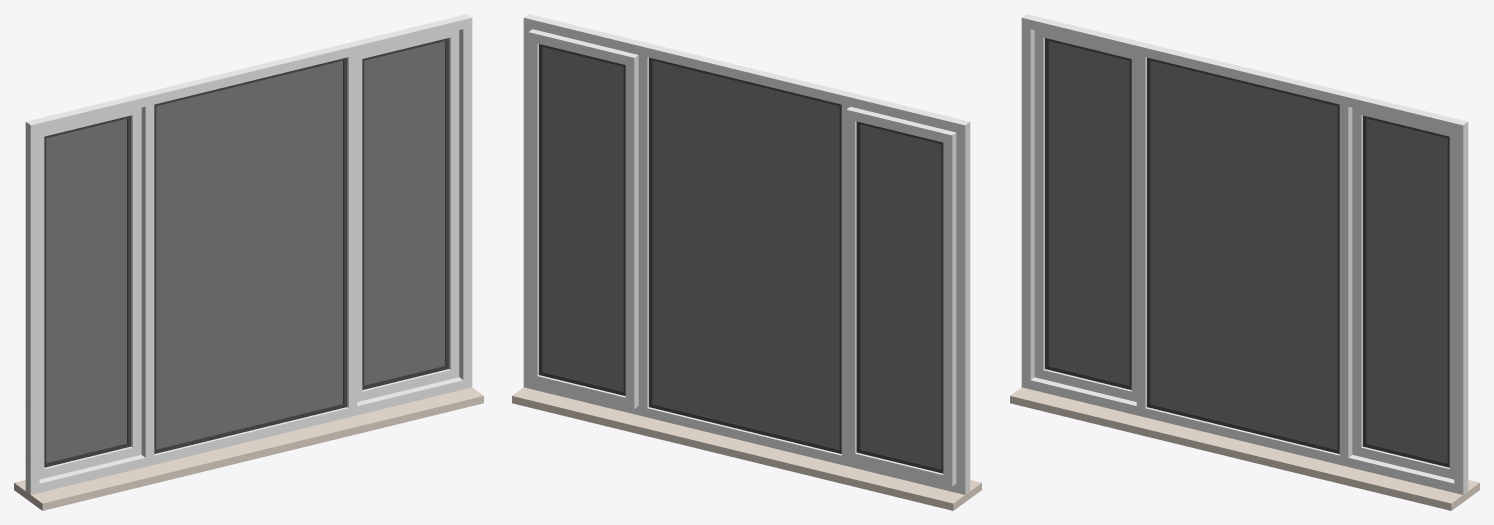
The model's file is window.glb.
3 views of the same model, side by side, from view 1: azimuth 30°, elevation 25°; view 2: azimuth 150°, elevation 25°; view 3: azimuth 330°, elevation 25° (orthographic).
Parts seen in each view (by area): view 1: Window; view 2: Window; view 3: Window.
Part boxes in pixels (x1,y1,x2,y2): Window: [14, 14, 483, 510]; Window: [512, 14, 981, 510]; Window: [1010, 14, 1479, 510].
Size of what is drawn, in the model's own units: 2.5 by 2.04 by 0.28.
